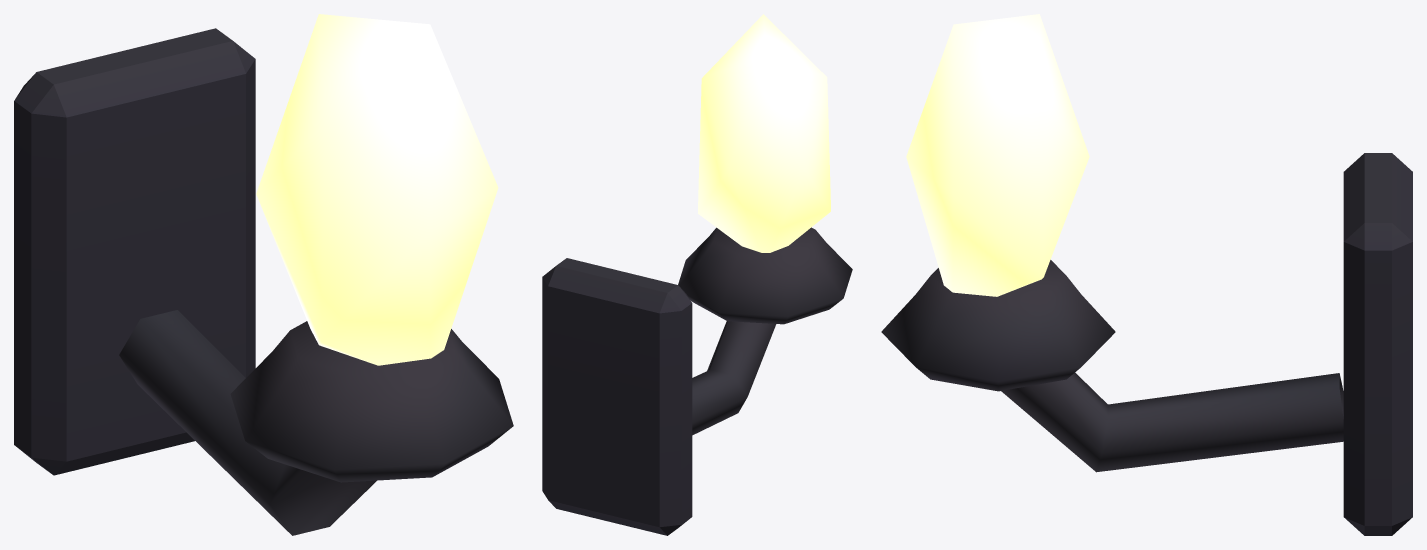
Rendered from sconce.glb.
3 renders of one model, left to right at view 1: azimuth 30°, elevation 25°; view 2: azimuth 150°, elevation 25°; view 3: azimuth 270°, elevation 25°, orthographic. The views are drawn at different scales.
Parts seen in each view (by area): view 1: sconce; view 2: sconce; view 3: sconce.
Boxes of the visible parts, box(x1,y1,x2,y2) form: sconce: box(14, 14, 513, 535); sconce: box(542, 14, 852, 535); sconce: box(881, 14, 1412, 535).
Size of the model in its own units: 0.34 by 0.7801 by 0.77.
